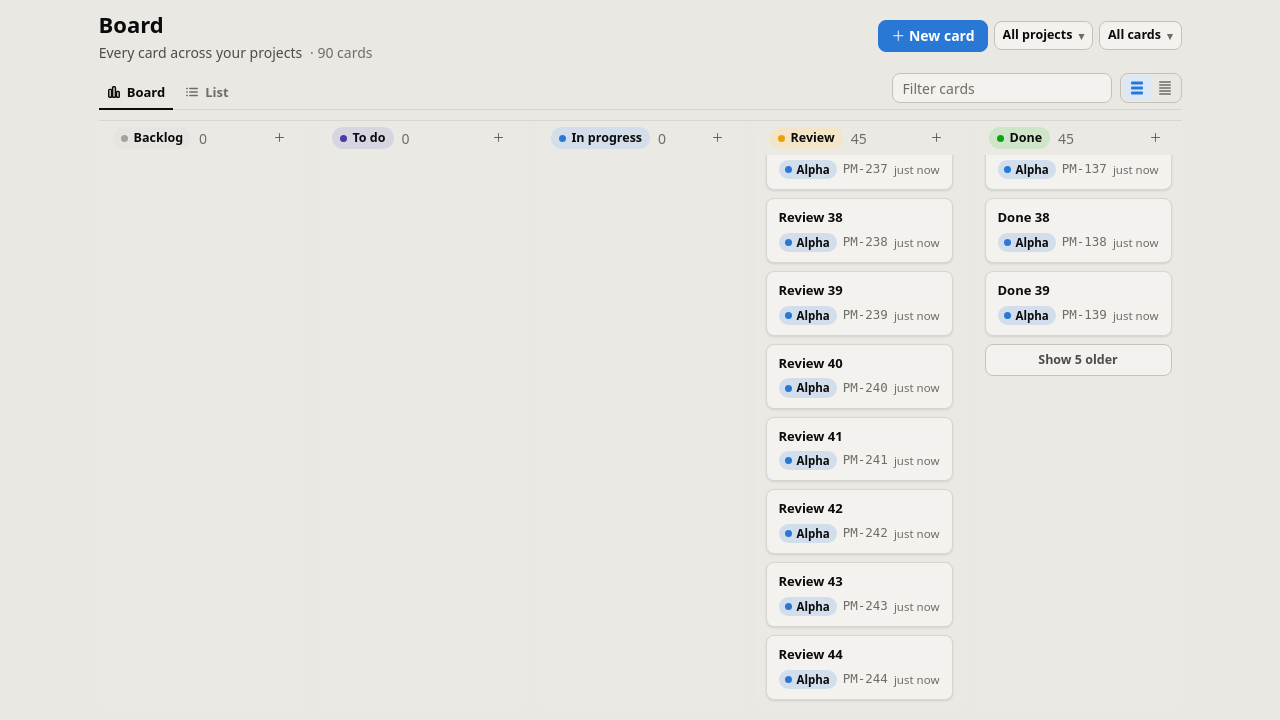
Test case: BoardPage › draws the newest 40 Done cards until asked, and every card in the working columns
(page scrolled)
Expected: the 2nd text "45" is shown, [1058,128,1074,148]
Click the button "Show 5 older" at x=1078, y=360, box [984,344,1172,376]
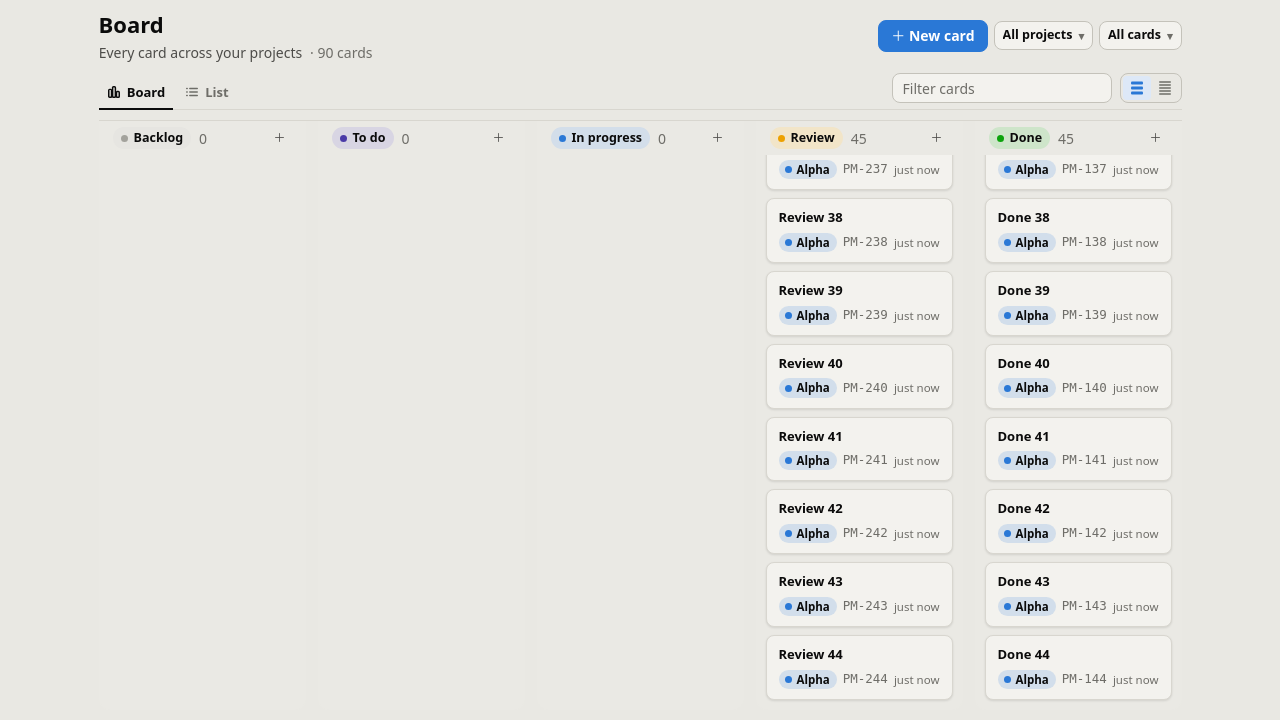
Expected: the button "older" is gone
